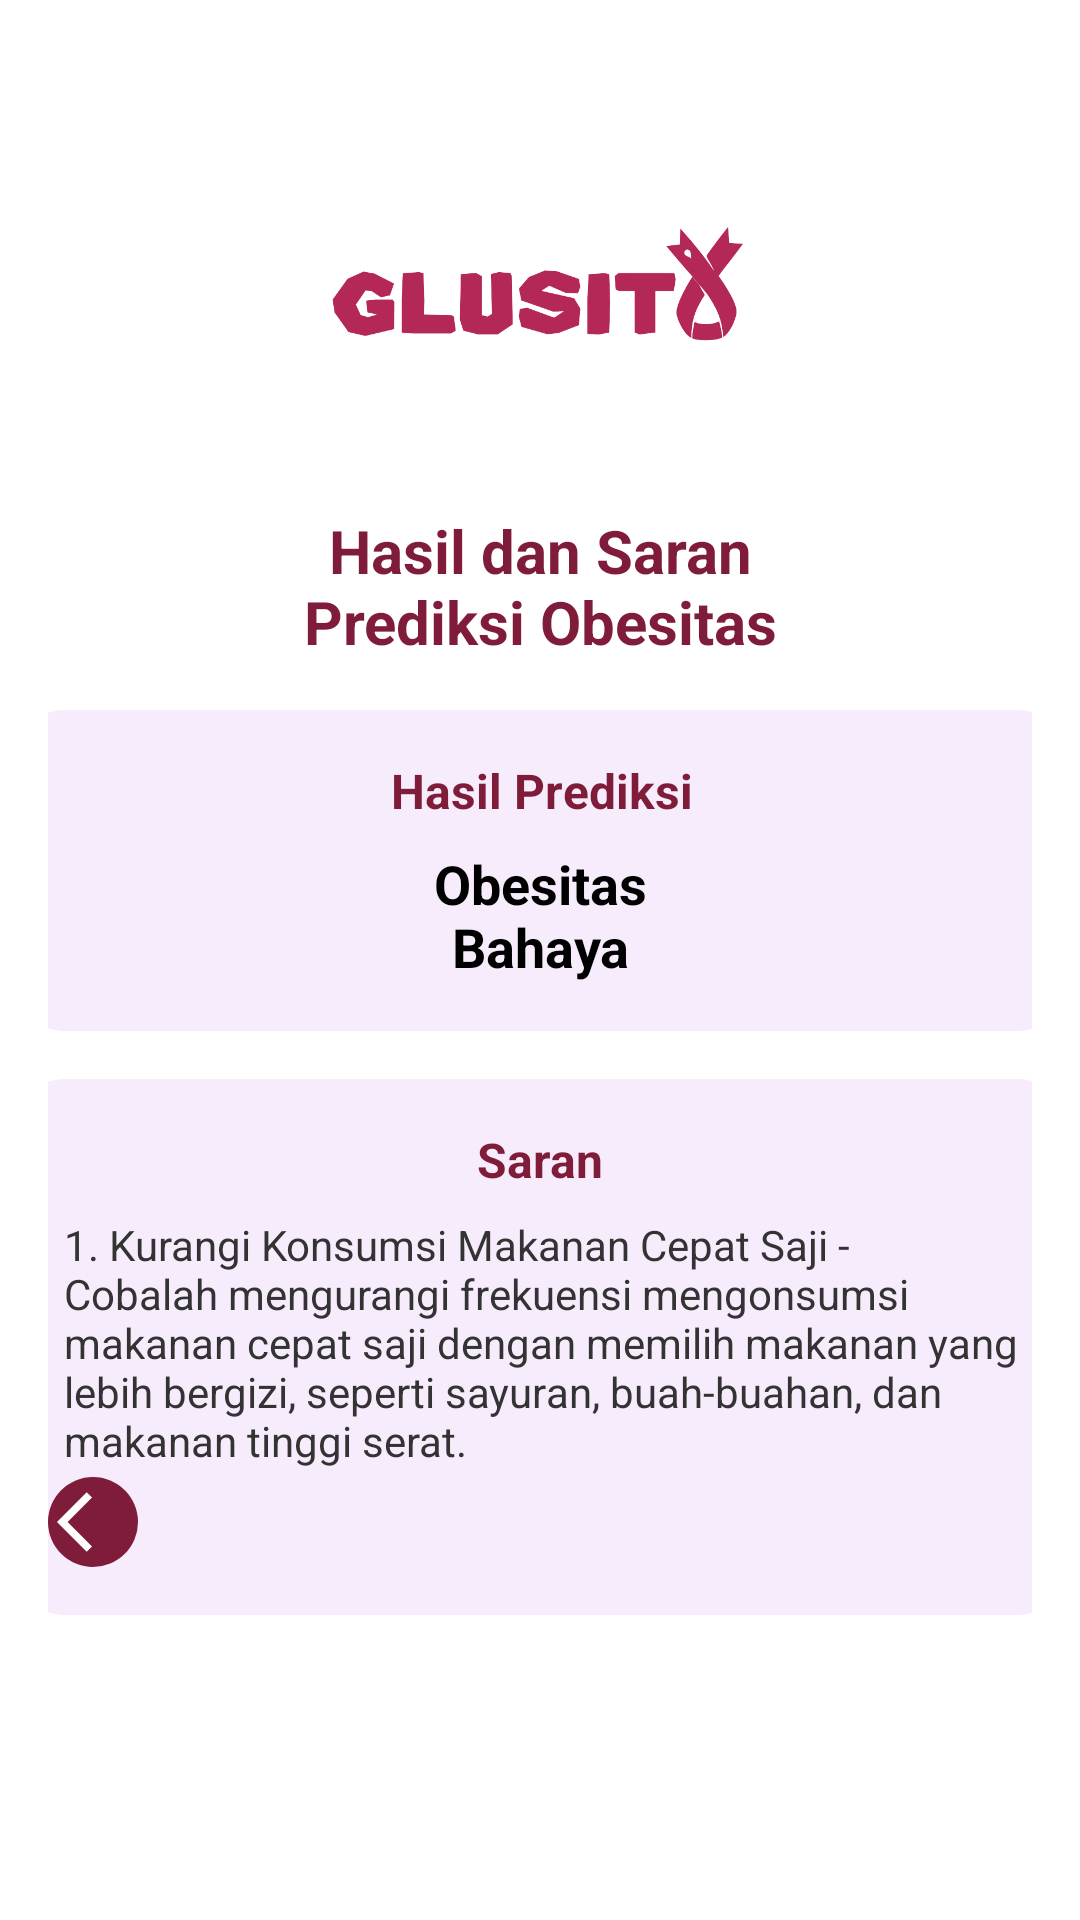

Where icons sit on this 1080x1920 app screen, as (x1, y1, x2, y2):
Kembali: (48, 1477, 138, 1567)
